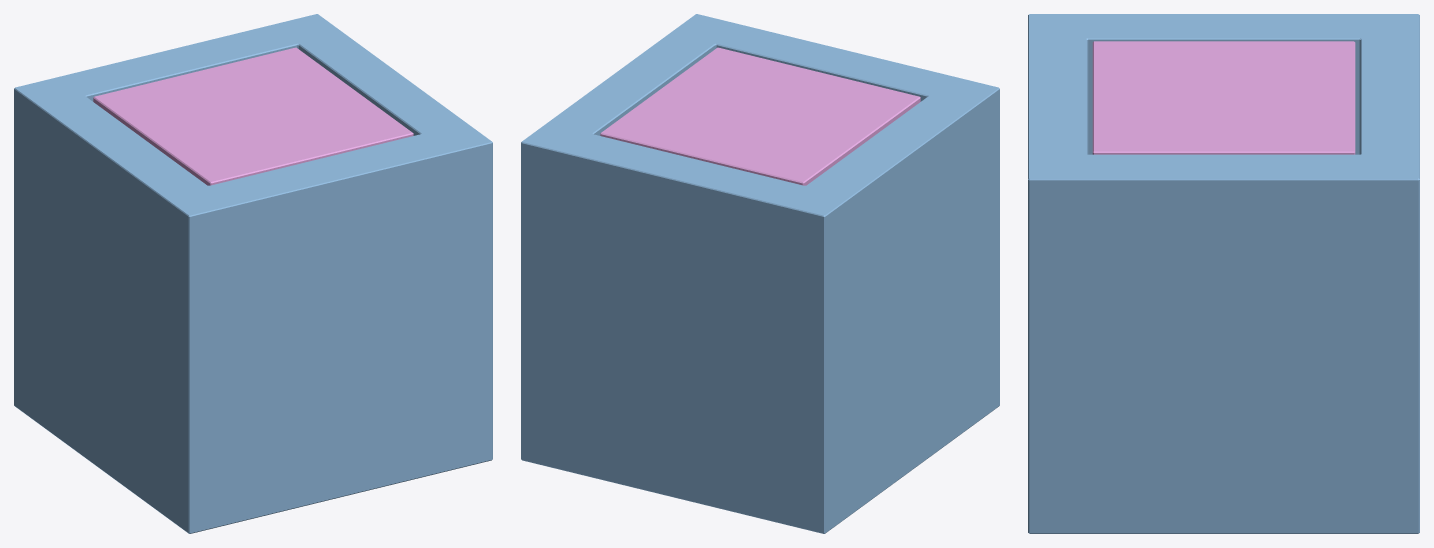
Rendered from BoxAnimated.gltf.
3 renders of one model, left to right at view 1: azimuth 30°, elevation 25°; view 2: azimuth 150°, elevation 25°; view 3: azimuth 270°, elevation 25°, orthographic. The views are drawn at different scales.
Visible parts, largest first — view 1: outer_box, inner_box; view 2: outer_box, inner_box; view 3: outer_box, inner_box.
Boxes of the visible parts, x1,y1,x2,y2 form: outer_box: (14,14,492,533); inner_box: (93,47,413,185); outer_box: (521,14,999,533); inner_box: (600,47,920,185); outer_box: (1028,14,1419,533); inner_box: (1092,41,1355,154).
Size of the model in its own units: 1 by 1 by 1.
